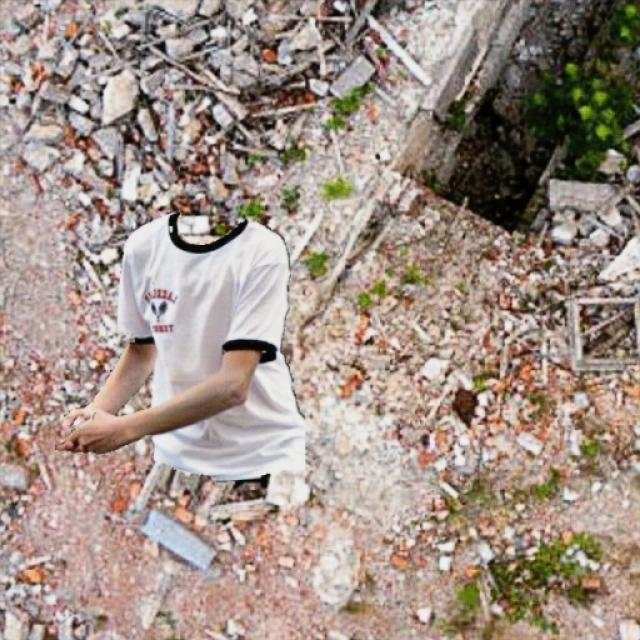Person in Rubble: (55, 210, 304, 481)
